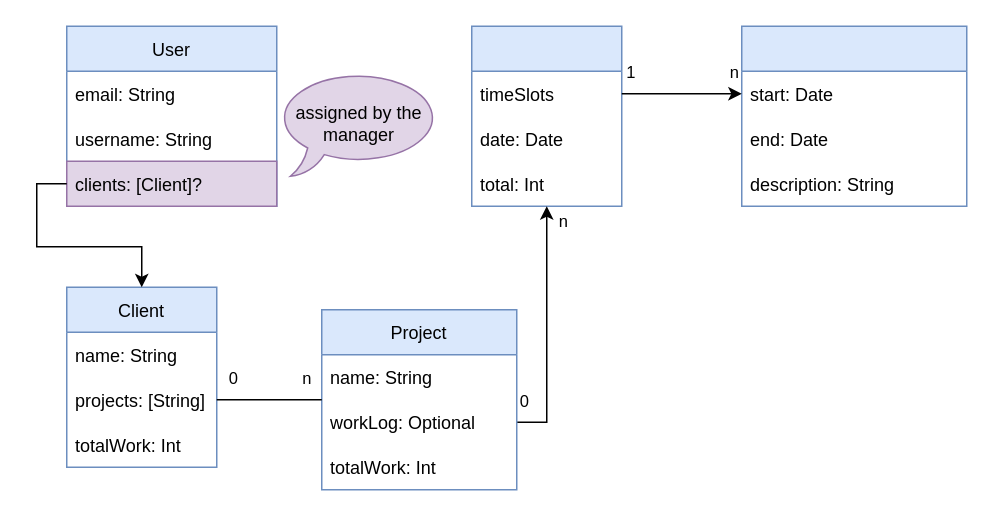
This 993x516 diagram has some shape labels left out. Here are the shapes that lost their labels. From the top down, the box of each, then its label:
(470, 25, 622, 206): WorkLog
(740, 25, 967, 206): TimeSlot
